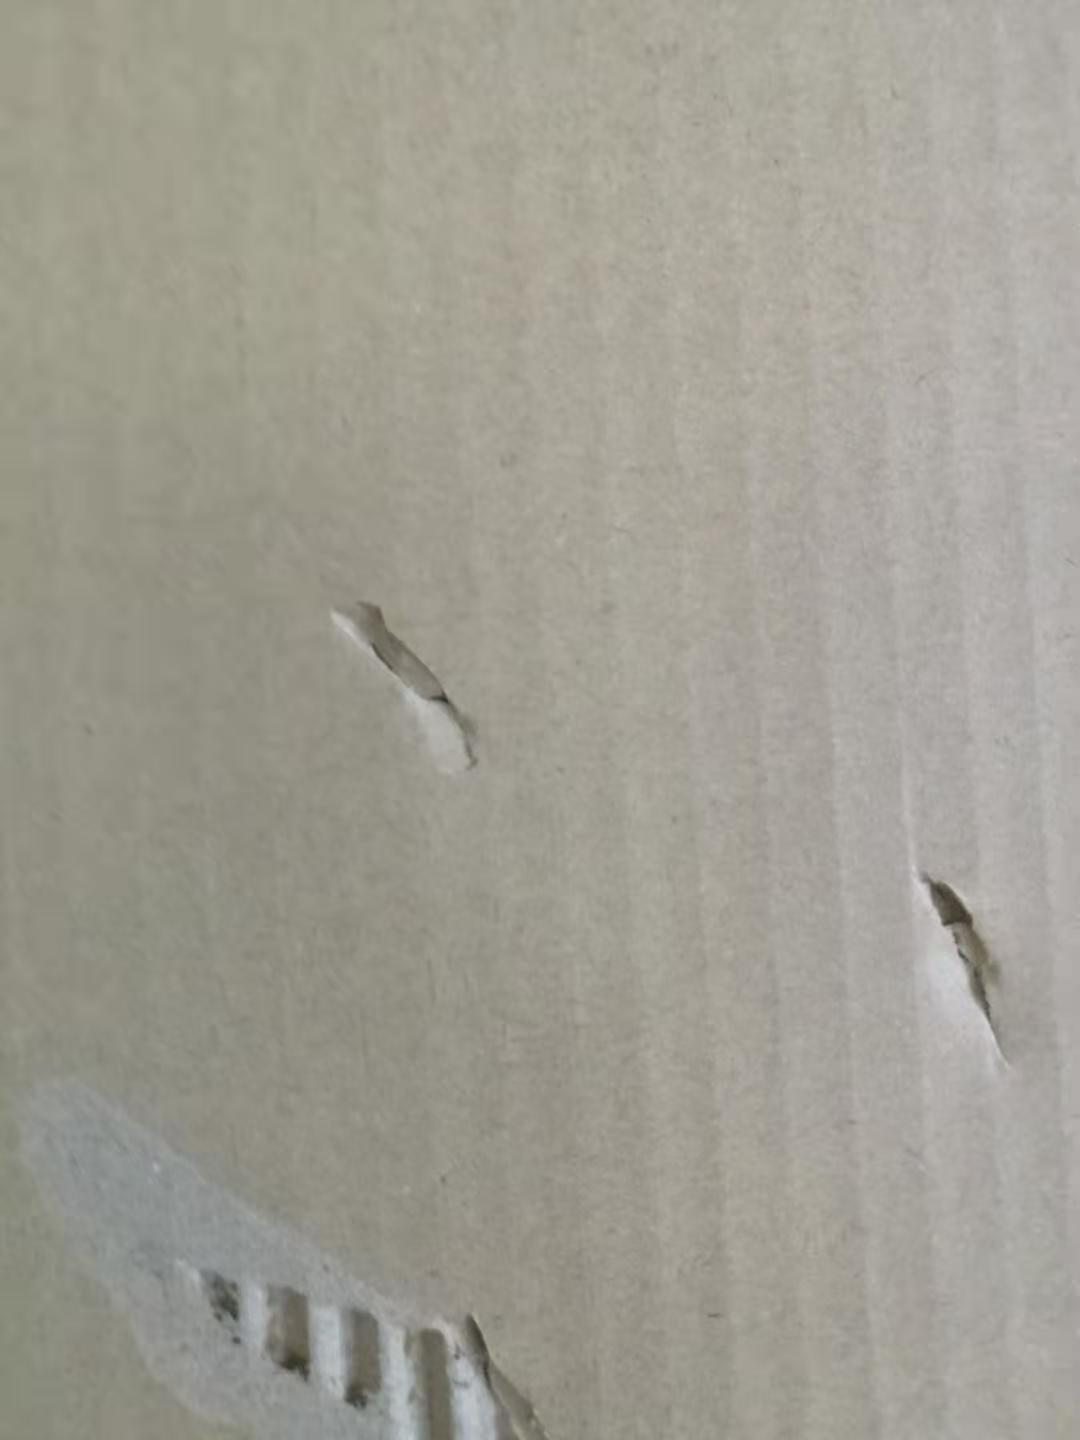defect: (6, 1048, 594, 1440), (295, 561, 503, 790), (894, 836, 1040, 1087)
